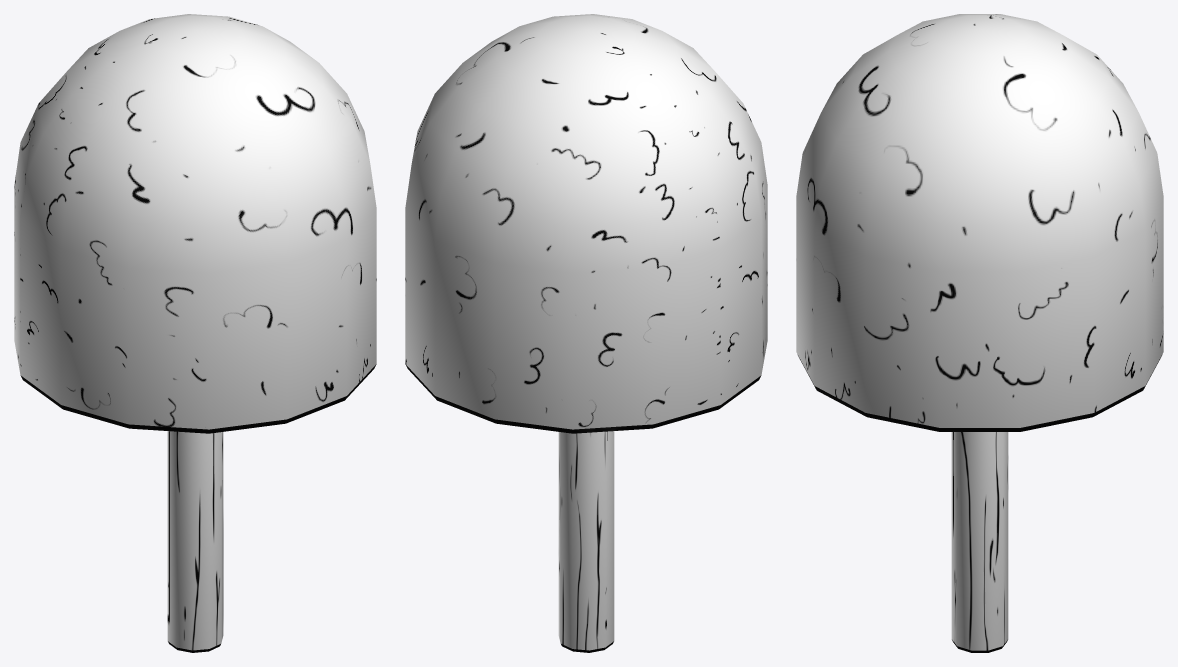
File: Tree2.fbx
3 renders of one model, left to right at view 1: azimuth 30°, elevation 25°; view 2: azimuth 150°, elevation 25°; view 3: azimuth 270°, elevation 25°, orthographic.
Parts seen in each view (by area): view 1: Tree2; view 2: Tree2; view 3: Tree2.
Boxes of the visible parts, box(x1,y1,x2,y2) form: Tree2: box(14, 14, 376, 652); Tree2: box(405, 14, 767, 652); Tree2: box(796, 14, 1163, 652).
Bounding box in the file's own units: 8.78 × 16.62 × 9.01.
